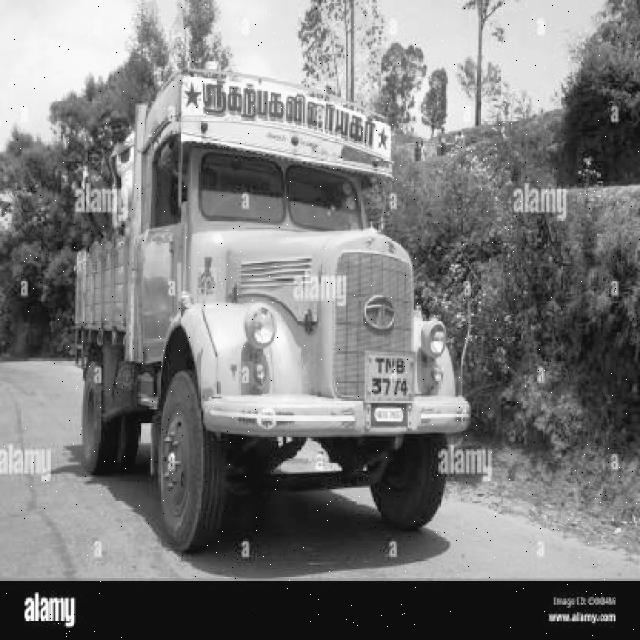HCV: (94, 125, 451, 544)
